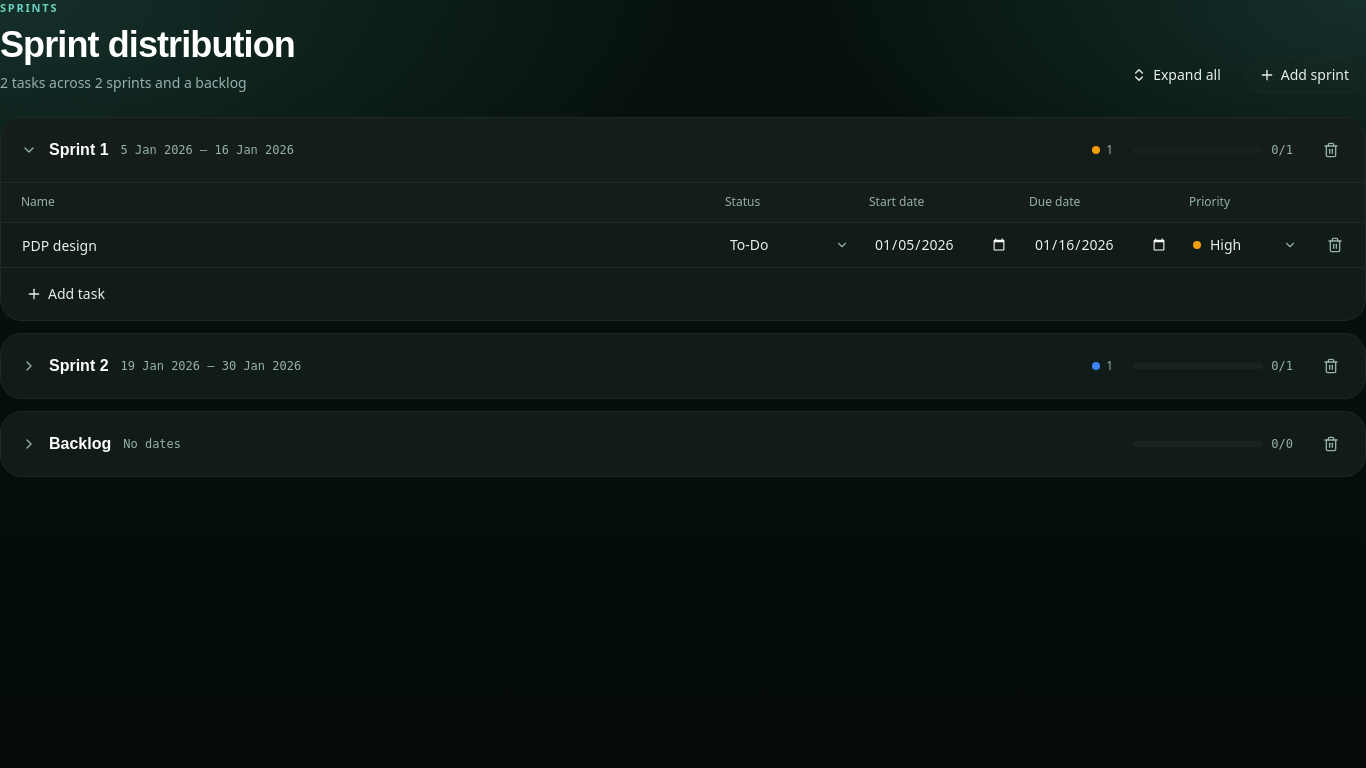
Sprints › expands and collapses sprints
What coordinates should you click on to do the following:
click the button "Sprint 2 19 Jan 2026 – 30 Jan 2026"
I would click on:
 (79, 366)
Its box is [17, 344, 1072, 388].
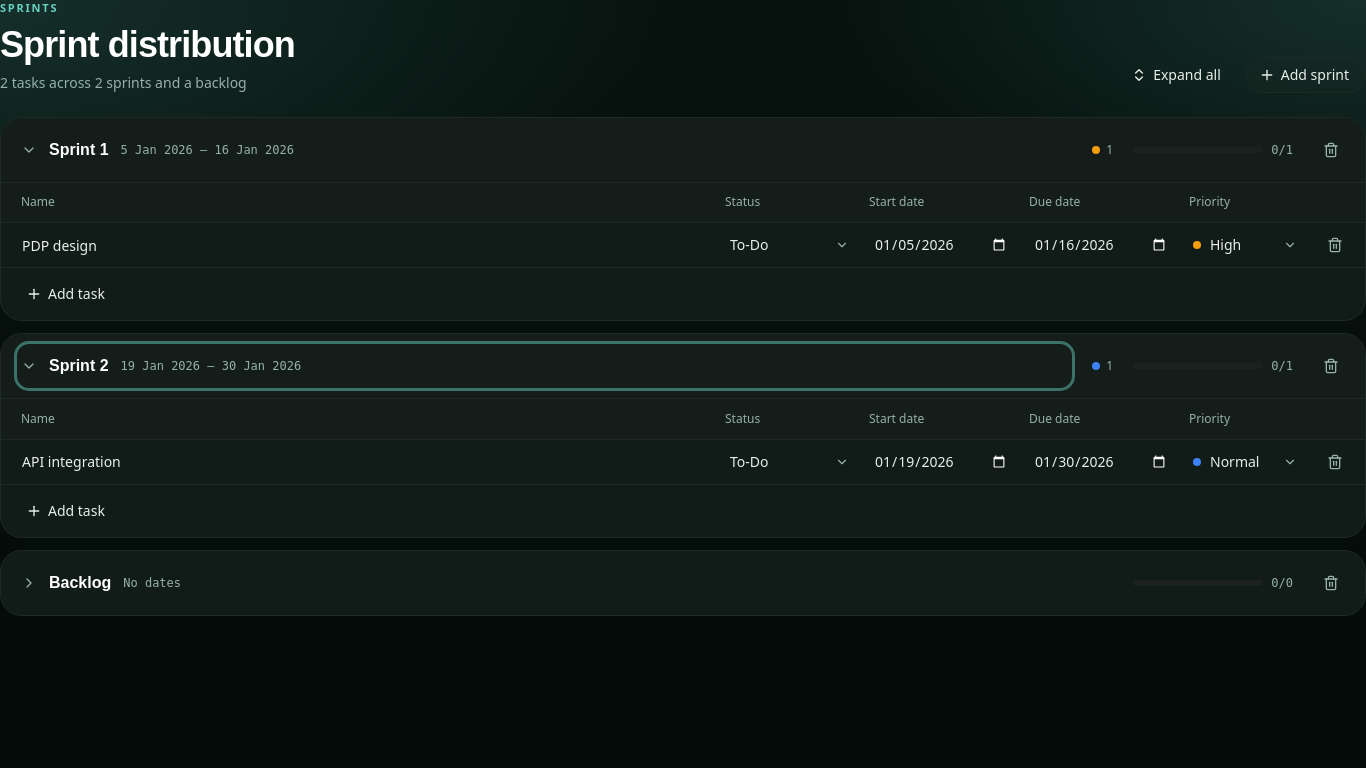
Expected: the field named "Name for API integration" is shown, [13, 444, 713, 480]
What coordinates should you click on to do the following:
click the button "Expand all"
I would click on:
 (1178, 74)
Its box is [1118, 56, 1238, 92].
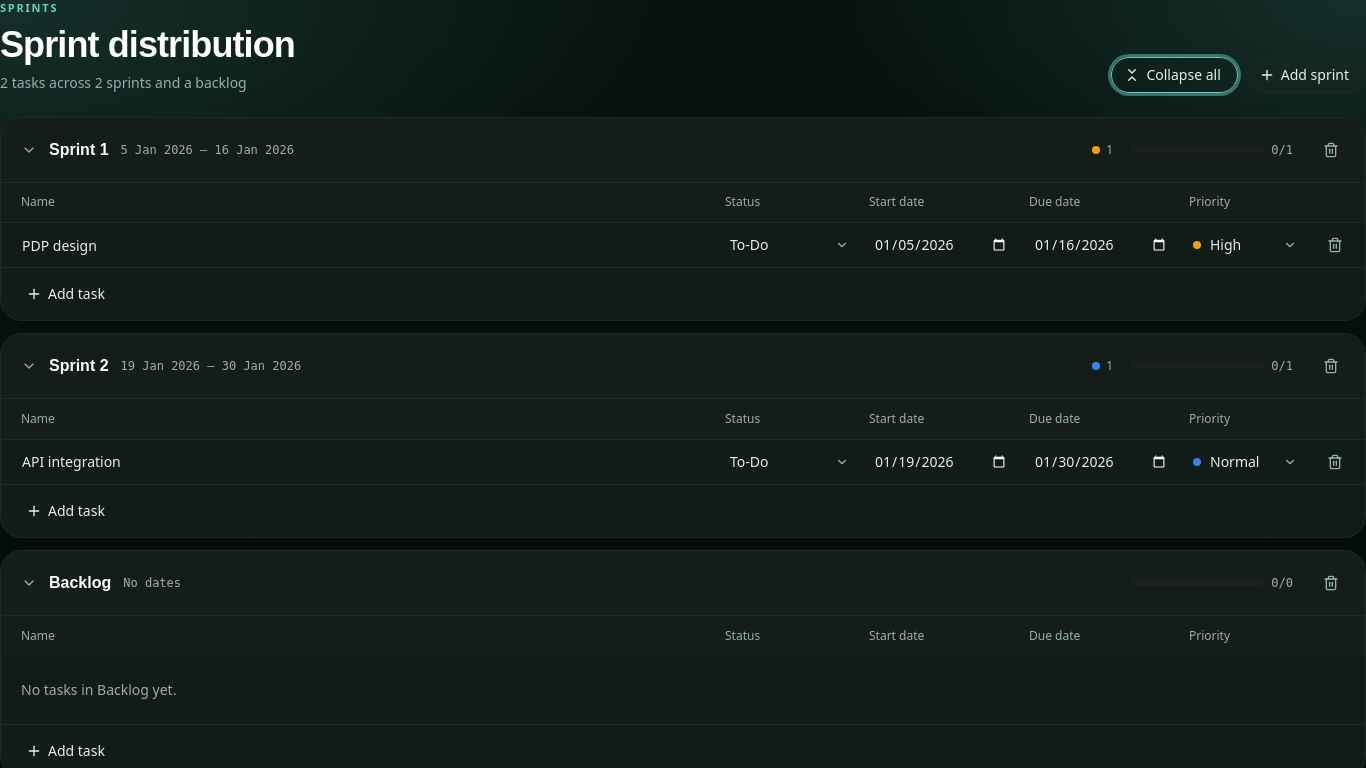
Expected: the text "No tasks in Backlog yet." is shown, [1, 656, 1365, 724]
What coordinates should you click on to do the following:
click the button "Collapse all"
I would click on:
 (1175, 74)
Its box is [1111, 56, 1238, 92].
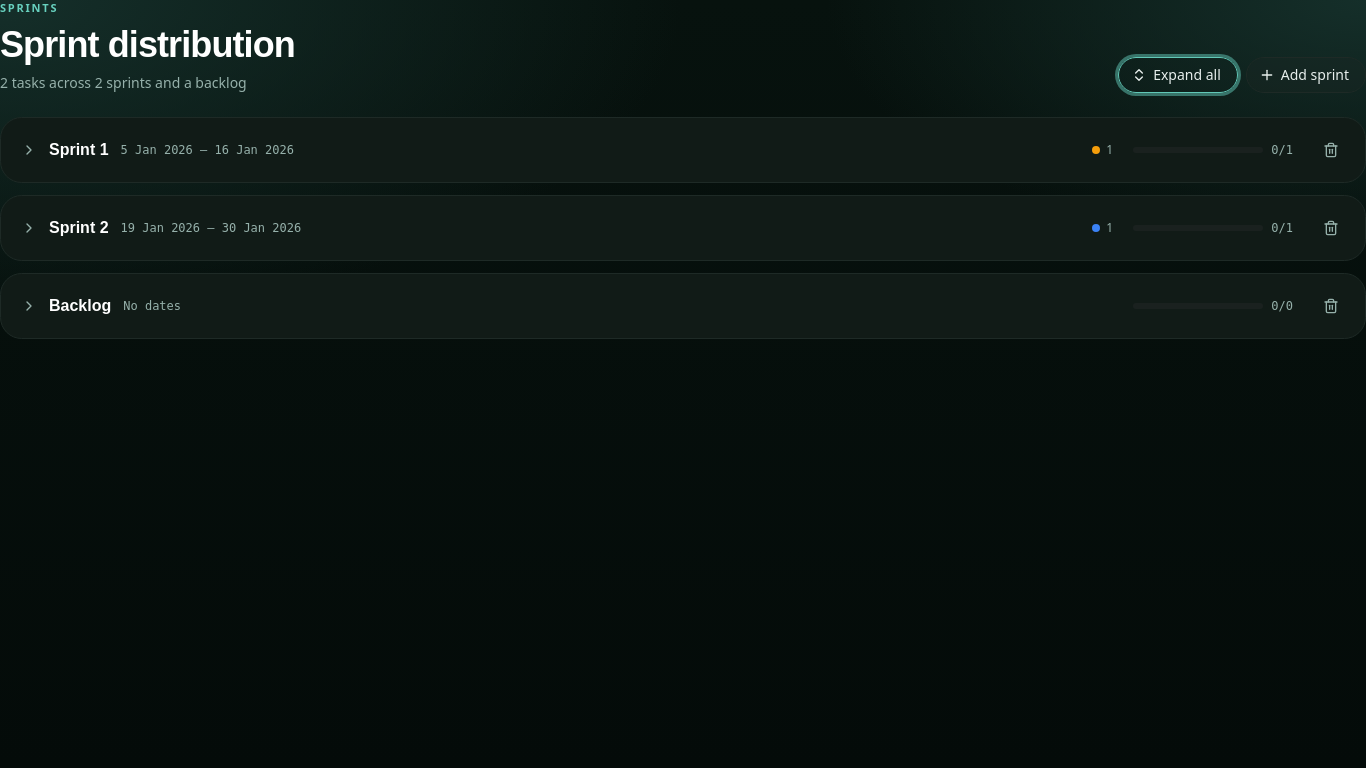
Expected: the table is gone
